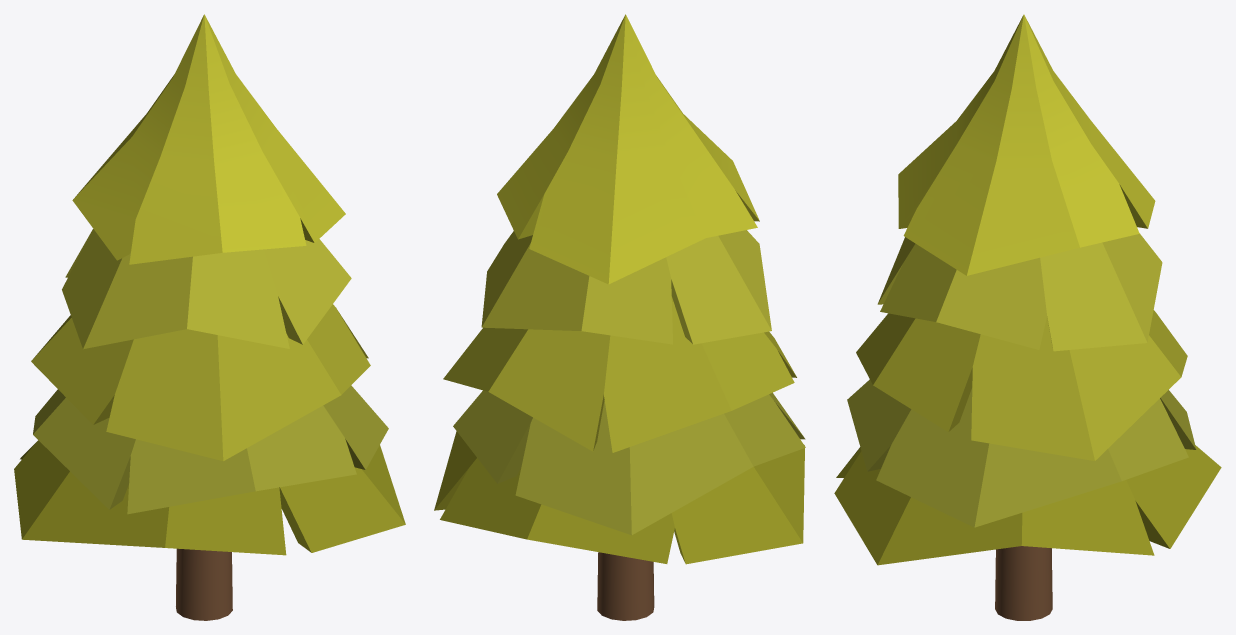
File: Spruce_Yellow_Thick_3.fbx
3 renders of one model, left to right at view 1: azimuth 30°, elevation 25°; view 2: azimuth 150°, elevation 25°; view 3: azimuth 270°, elevation 25°, orthographic.
Visible parts, largest first — view 1: Cylinder.382, Cylinder.383, Cylinder.384, Cylinder.386, Cylinder.385, Cylinder.387; view 2: Cylinder.382, Cylinder.383, Cylinder.385, Cylinder.384, Cylinder.386, Cylinder.387; view 3: Cylinder.382, Cylinder.383, Cylinder.385, Cylinder.384, Cylinder.386, Cylinder.387.
Boxes of the visible parts, box(x1,y1,x2,y2) form: Cylinder.382: box(72, 14, 345, 264); Cylinder.383: box(31, 304, 370, 461); Cylinder.384: box(62, 229, 351, 349); Cylinder.386: box(14, 440, 405, 555); Cylinder.385: box(33, 385, 388, 514); Cylinder.387: box(176, 548, 232, 620); Cylinder.382: box(497, 14, 759, 284); Cylinder.383: box(443, 296, 796, 452); Cylinder.385: box(453, 390, 805, 535); Cylinder.384: box(481, 230, 771, 344); Cylinder.386: box(434, 431, 804, 564); Cylinder.387: box(597, 552, 654, 620); Cylinder.382: box(898, 14, 1155, 275); Cylinder.383: box(856, 310, 1187, 460); Cylinder.385: box(847, 379, 1196, 527); Cylinder.384: box(877, 233, 1162, 351); Cylinder.386: box(834, 445, 1221, 565); Cylinder.387: box(995, 546, 1052, 620).
Size of the model in its own units: 347 by 567 by 334.
